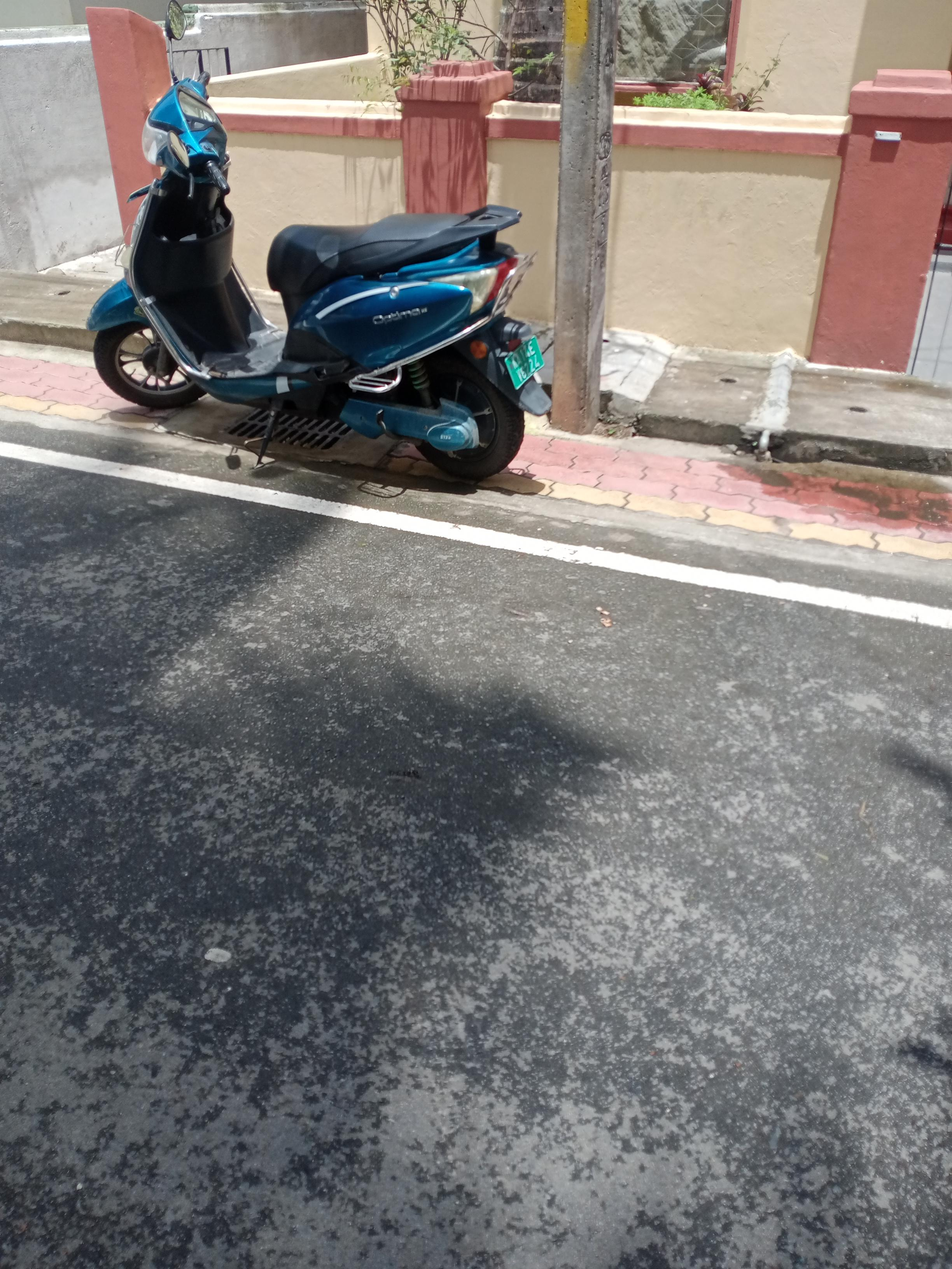green license plate: (499, 330, 548, 385)
